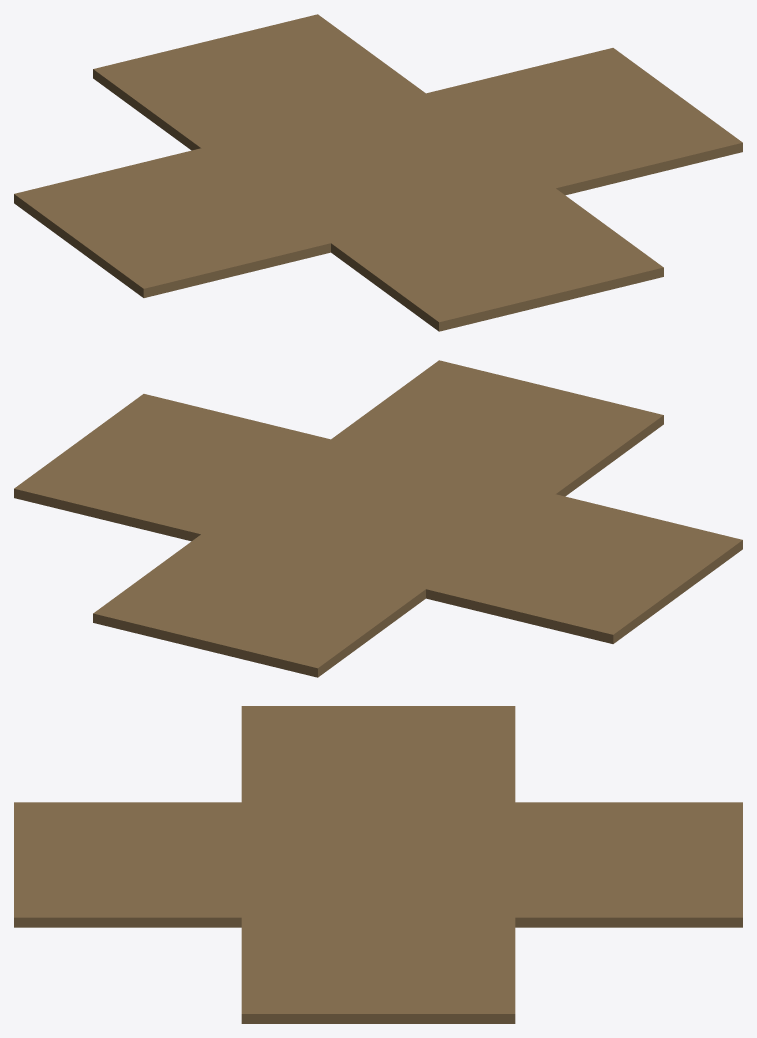
File: road_dirt_cross_lod2.glb
3 renders of one model, top to bottom at view 1: azimuth 30°, elevation 25°; view 2: azimuth 150°, elevation 25°; view 3: azimuth 270°, elevation 25°, orthographic. The views are drawn at different scales.
Parts seen in each view (by area): view 1: body; view 2: body; view 3: body.
Part boxes in pixels (x1,y1,x2,y2): body: (14, 14, 742, 331); body: (14, 360, 742, 677); body: (14, 706, 742, 1023).
Size of the model in its own units: 8 by 0.12 by 8.
